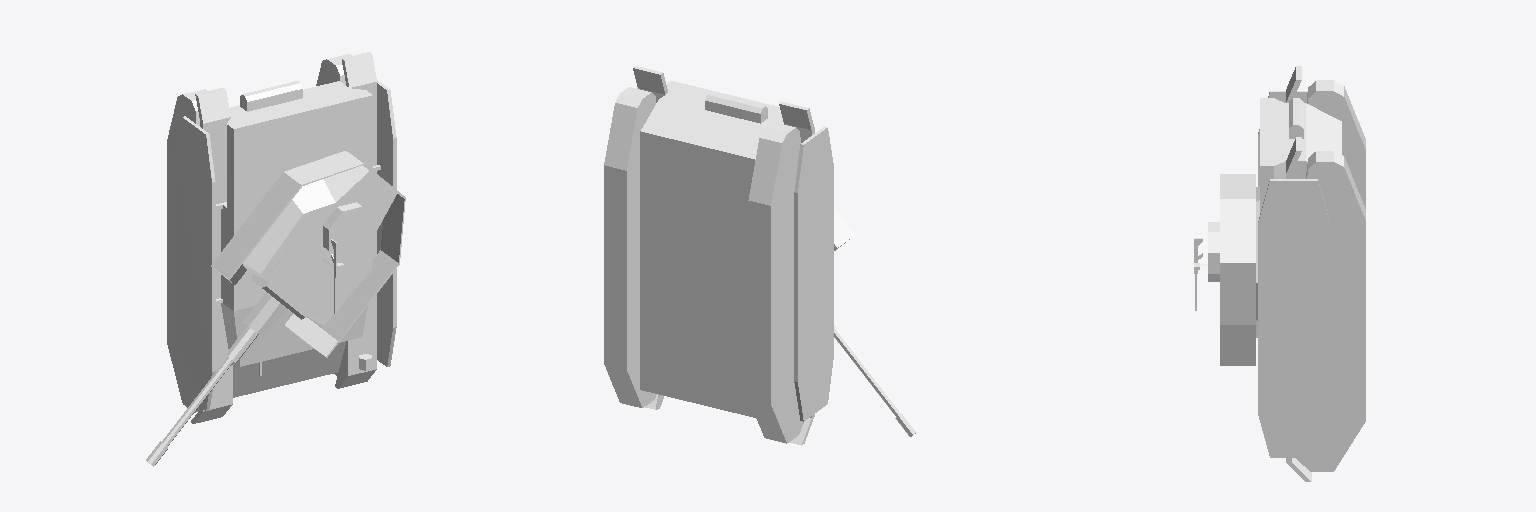
The model's file is panzer_1.obj.
3 views of the same model, side by side, from view 1: azimuth 30°, elevation 25°; view 2: azimuth 150°, elevation 25°; view 3: azimuth 270°, elevation 25° (orthographic).
Visible parts, largest first — view 1: panzer_1.x; view 2: panzer_1.x; view 3: panzer_1.x.
Part boxes in pixels (x1,y1,x2,y2): panzer_1.x: (146,52,405,466); panzer_1.x: (604,66,917,445); panzer_1.x: (1194,66,1365,481).
Size of the model in its own units: 149 by 182 by 86.